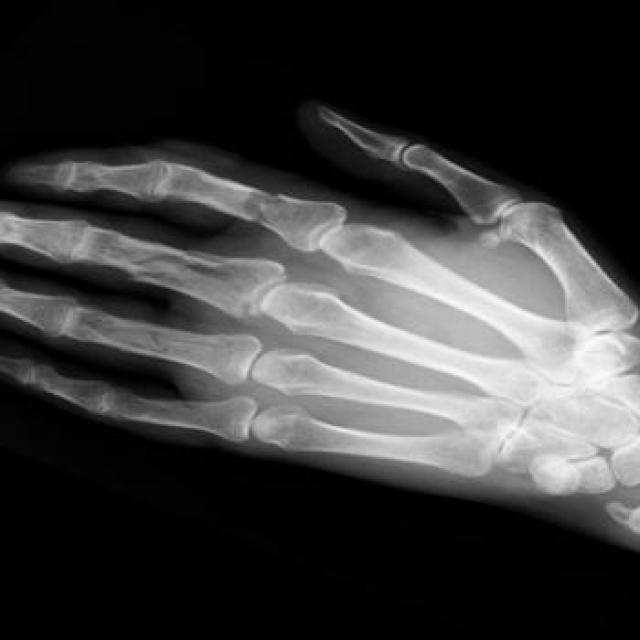Fracture: (122, 243, 242, 292), (134, 320, 243, 366), (230, 181, 308, 225)
